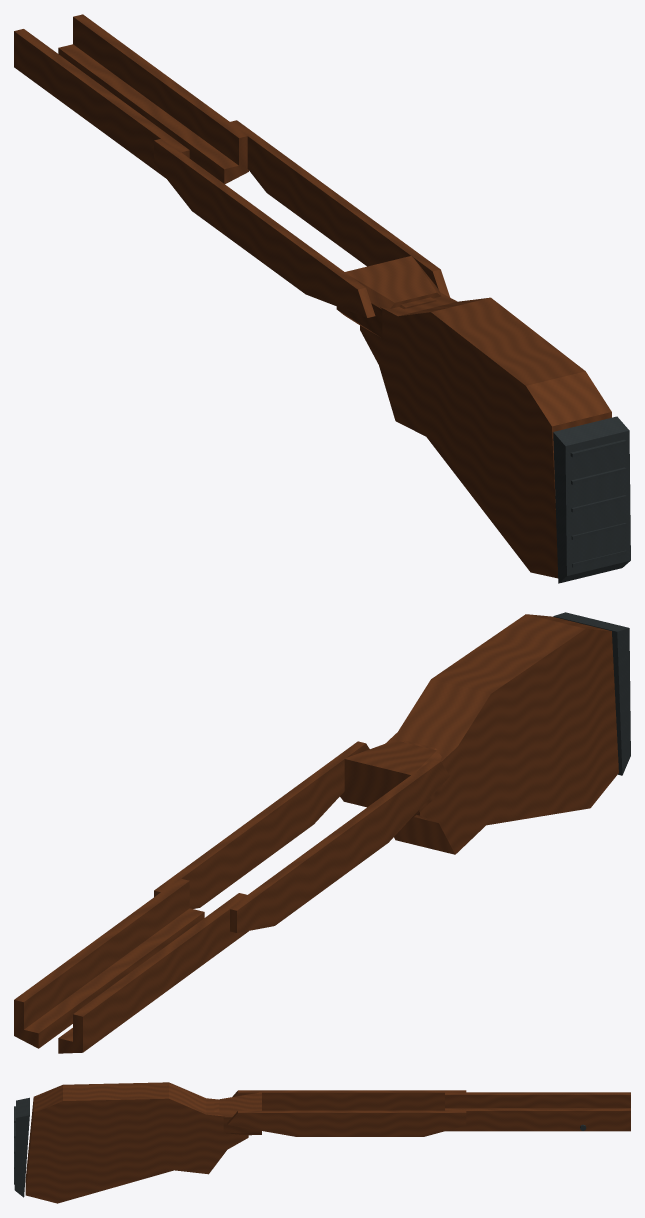
File: sks_stock.glb
3 renders of one model, top to bottom at view 1: azimuth 30°, elevation 25°; view 2: azimuth 150°, elevation 25°; view 3: azimuth 270°, elevation 25°, orthographic. The views are drawn at different scales.
Visible parts, largest first — view 1: stock__sks_stock_LOD0_RAID_Secondary_Original_wood, stock__sks_stock_LOD1_RAID_Secondary_Original_wood, stock__sks_stock_LOD0_RAID_Secondary_Original_steel, stock__sks_stock_LOD1_RAID_Secondary_Original_steel; view 2: stock__sks_stock_LOD0_RAID_Secondary_Original_wood, stock__sks_stock_LOD1_RAID_Secondary_Original_wood, stock__sks_stock_LOD1_RAID_Secondary_Original_steel, stock__sks_stock_LOD0_RAID_Secondary_Original_steel; view 3: stock__sks_stock_LOD0_RAID_Secondary_Original_wood, stock__sks_stock_LOD1_RAID_Secondary_Original_wood, stock__sks_stock_LOD0_RAID_Secondary_Original_steel, stock__sks_stock_LOD1_RAID_Secondary_Original_steel.
Part boxes in pixels (left/top/right/bottom): stock__sks_stock_LOD0_RAID_Secondary_Original_wood: left=14, top=14, right=609, bottom=575; stock__sks_stock_LOD1_RAID_Secondary_Original_wood: left=360, top=292, right=611, bottom=578; stock__sks_stock_LOD0_RAID_Secondary_Original_steel: left=554, top=432, right=629, bottom=582; stock__sks_stock_LOD1_RAID_Secondary_Original_steel: left=553, top=416, right=630, bottom=583; stock__sks_stock_LOD0_RAID_Secondary_Original_wood: left=14, top=614, right=617, bottom=1053; stock__sks_stock_LOD1_RAID_Secondary_Original_wood: left=385, top=614, right=618, bottom=854; stock__sks_stock_LOD1_RAID_Secondary_Original_steel: left=553, top=612, right=630, bottom=775; stock__sks_stock_LOD0_RAID_Secondary_Original_steel: left=612, top=632, right=630, bottom=773; stock__sks_stock_LOD0_RAID_Secondary_Original_wood: left=27, top=1083, right=630, bottom=1191; stock__sks_stock_LOD1_RAID_Secondary_Original_wood: left=25, top=1082, right=248, bottom=1203; stock__sks_stock_LOD0_RAID_Secondary_Original_steel: left=14, top=1106, right=586, bottom=1196; stock__sks_stock_LOD1_RAID_Secondary_Original_steel: left=14, top=1097, right=29, bottom=1197.
Bounding box in the file's own units: 0.101 × 0.218 × 1.16.
Materials: 2 (2 with a texture image).
